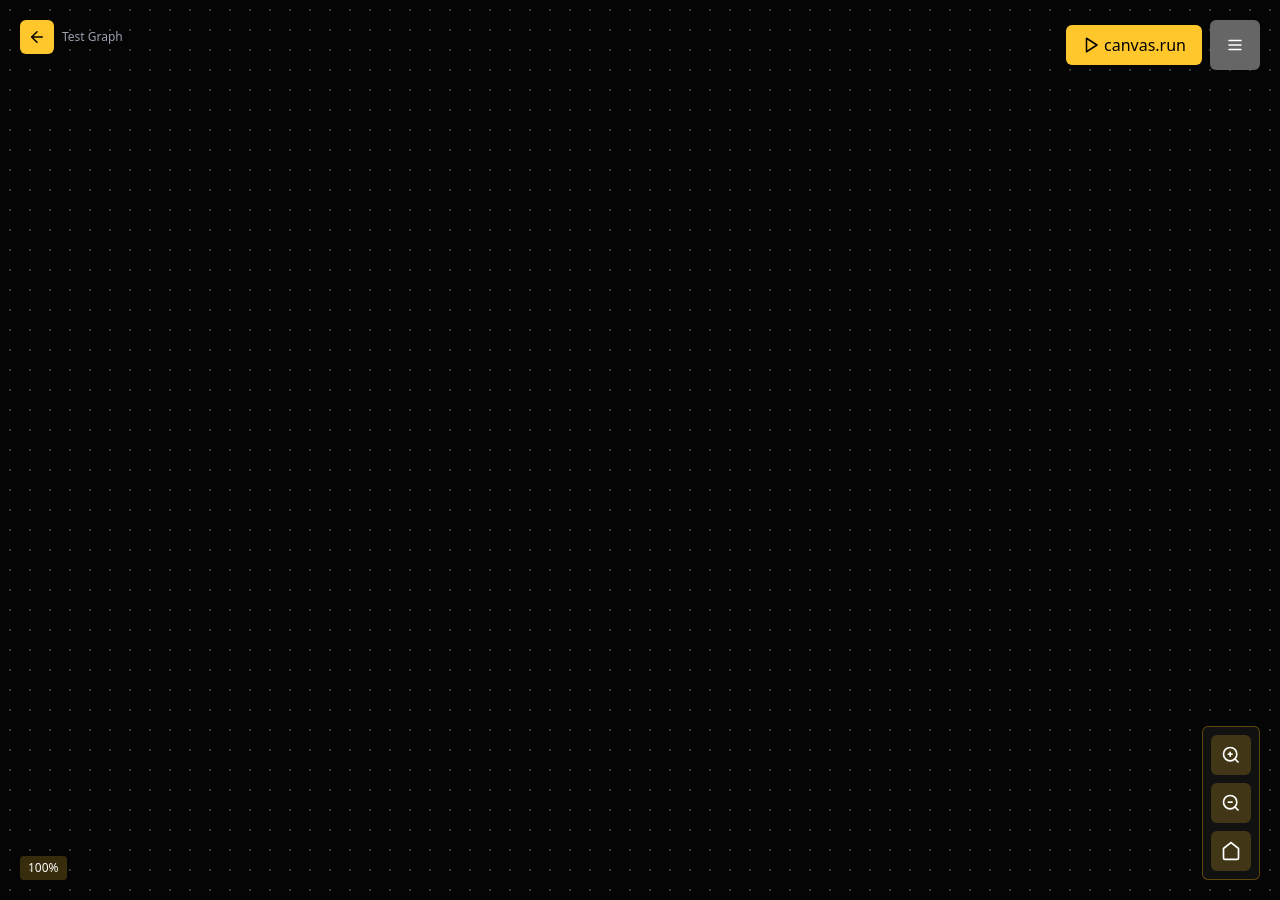
Test case: NodeCanvas Component › error handling › ignores unrelated sidecar errors and surfaces the active run error
Click the button "canvas.run" at (1134, 45), box [1066,25,1202,65]
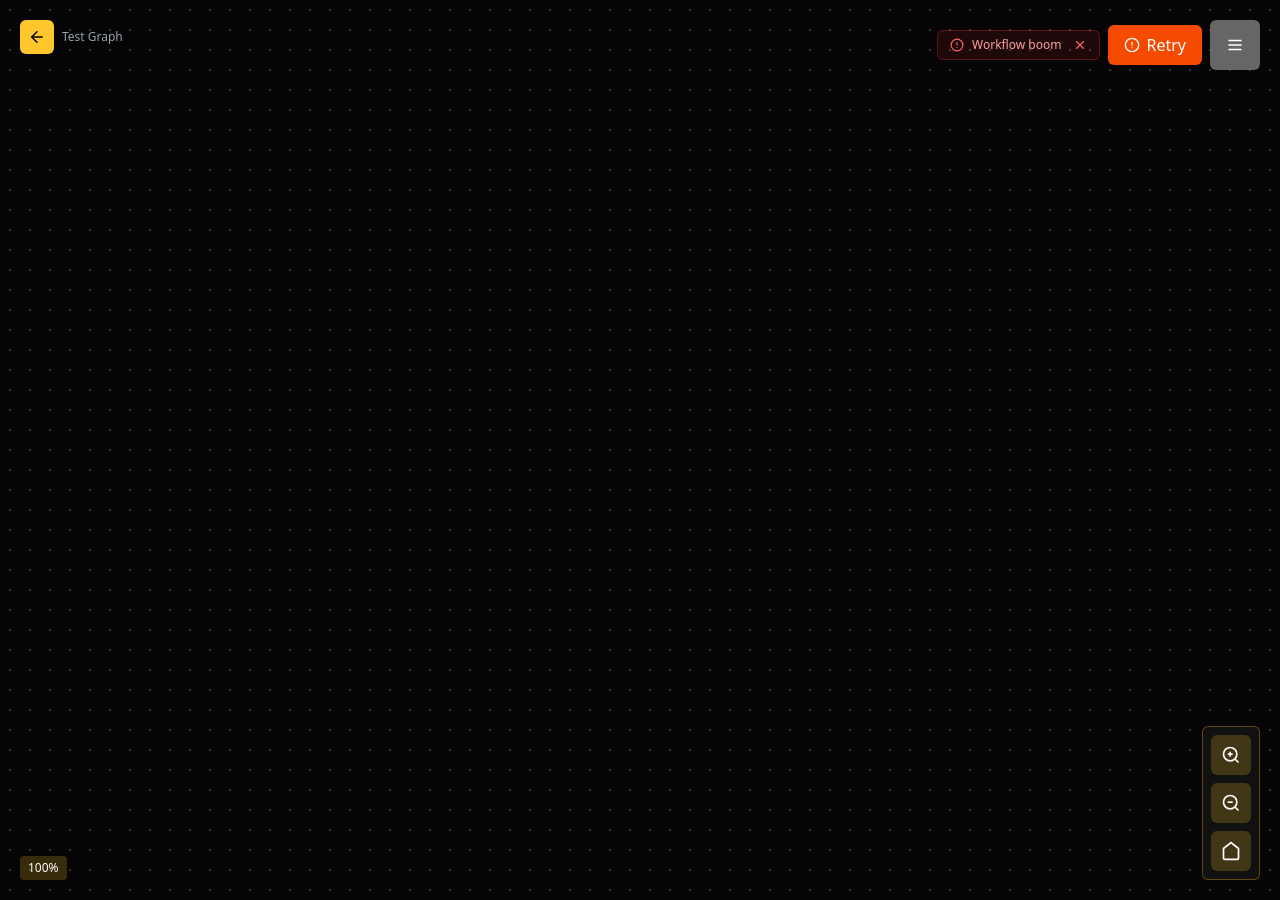
Check: the text "Workflow boom" is shown, box [972,37,1062,53]
